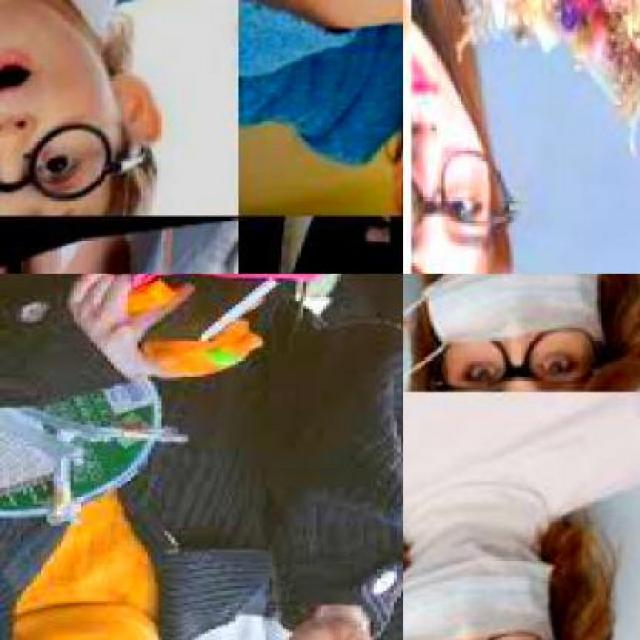glasses: (414, 105, 534, 272), (0, 109, 160, 217), (432, 318, 618, 392)
